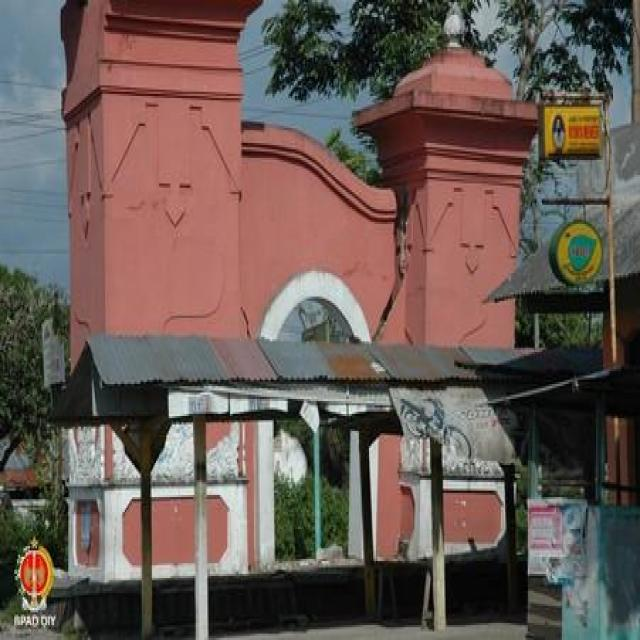damage: (317, 202, 446, 368)
